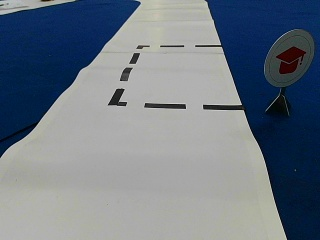school: (264, 30, 313, 86)
